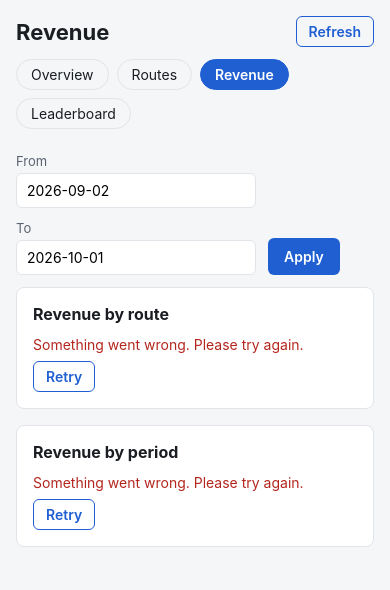
Test case: RevenueView › shows error + retry when the fetch fails
Click the button with test id "widget-revenue-by-route-retry" at (64, 376), box [33, 361, 95, 392]
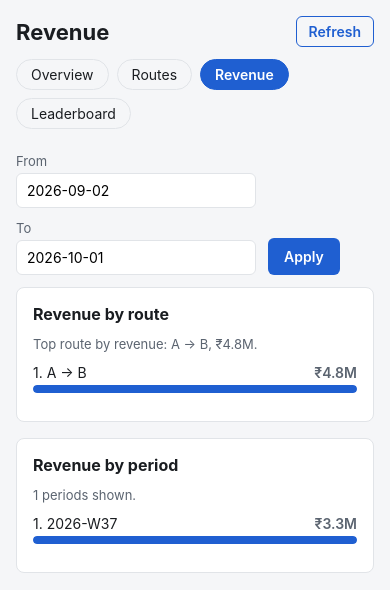
Now the text "₹4.8M" is shown, box [314, 364, 357, 381]
